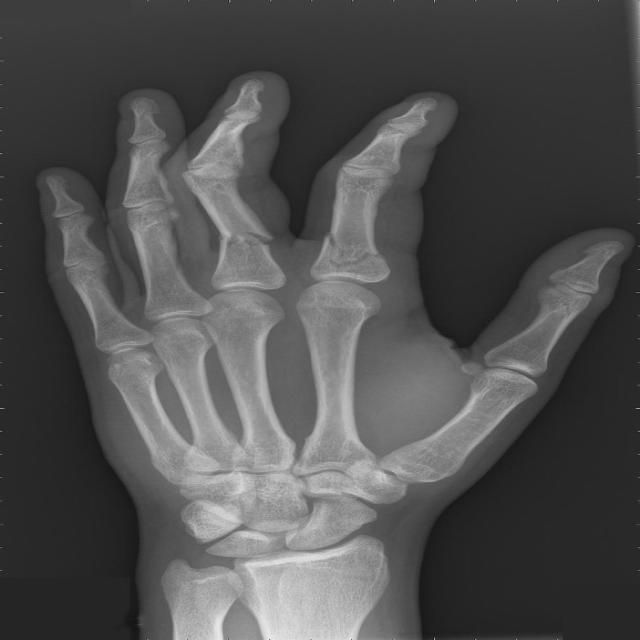fracture: (199, 210, 399, 304)
